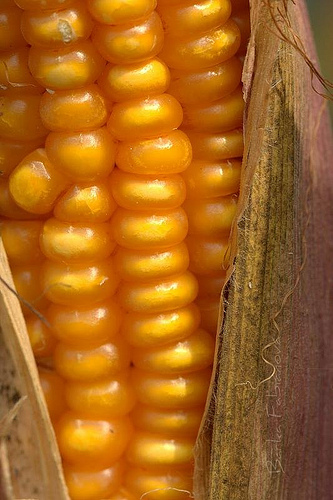corn: (0, 0, 244, 498)
